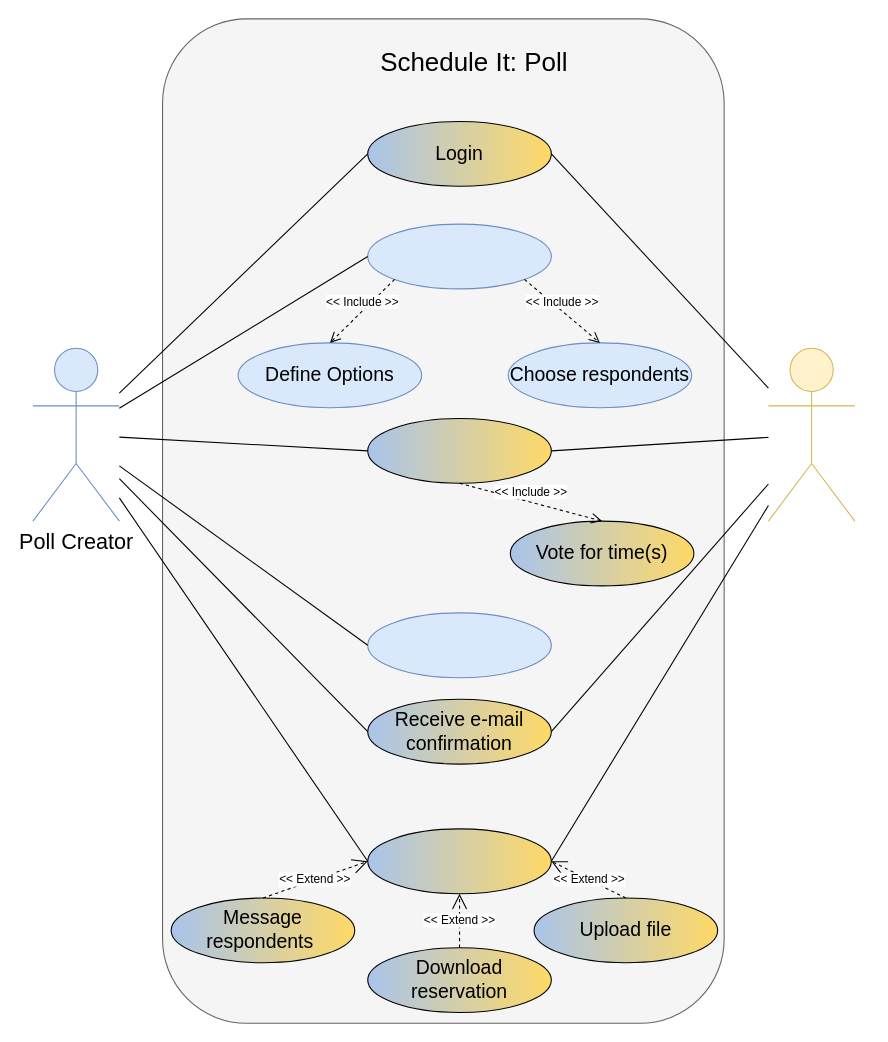
Some shapes in this 888 by 1042 pixel diagram are drawn without their labels. The box of each missing label's shape, as (x1, y1, x2, y2) in pixels:
Answer poll: (367, 417, 551, 483)
Create poll: (367, 223, 551, 289)
Finalize time(s): (367, 612, 551, 678)
Poll Respondent: (767, 347, 855, 521)
View final time(s): (367, 828, 551, 894)
